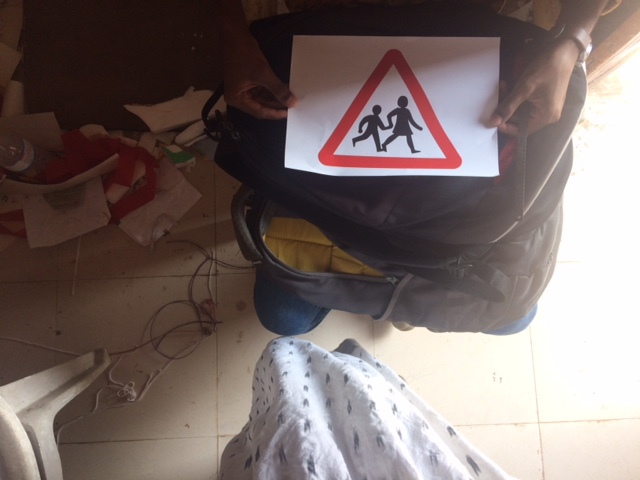sign: (314, 46, 464, 171)
